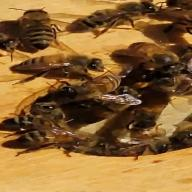Bee: (4, 7, 72, 50)
